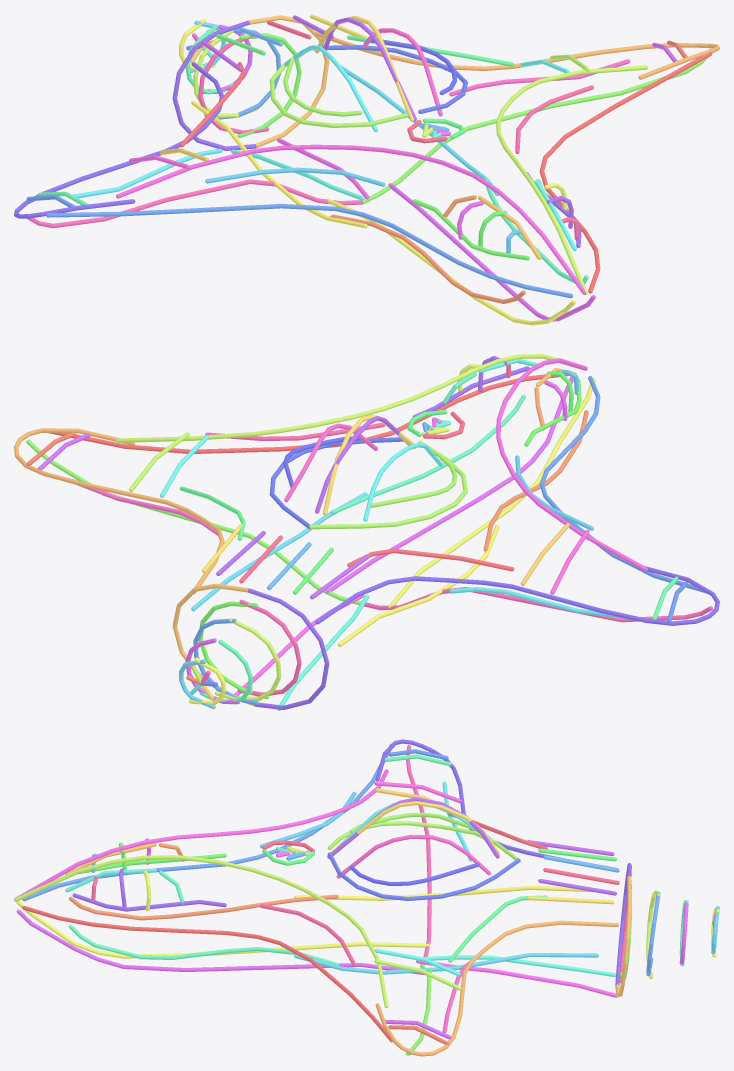
Rendered from author1_ship.gltf.
3 views of the same model, one above another, from view 1: azimuth 30°, elevation 25°; view 2: azimuth 150°, elevation 25°; view 3: azimuth 270°, elevation 25° (orthographic). The views are drawn at different scales.
Bounding box in the file's own units: 0.7121 × 0.2011 × 0.6817.
